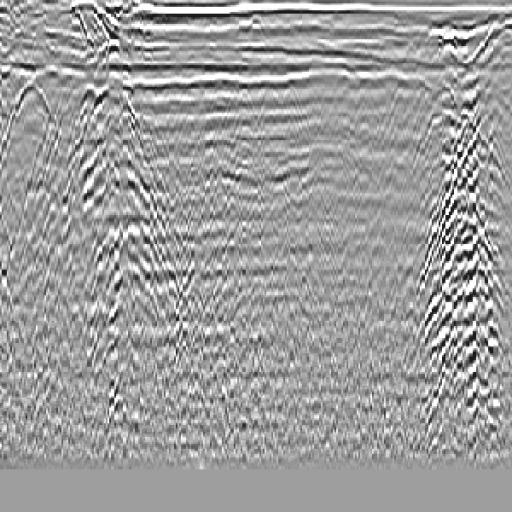non-metallic: (415, 66, 510, 439), (61, 33, 182, 320)
